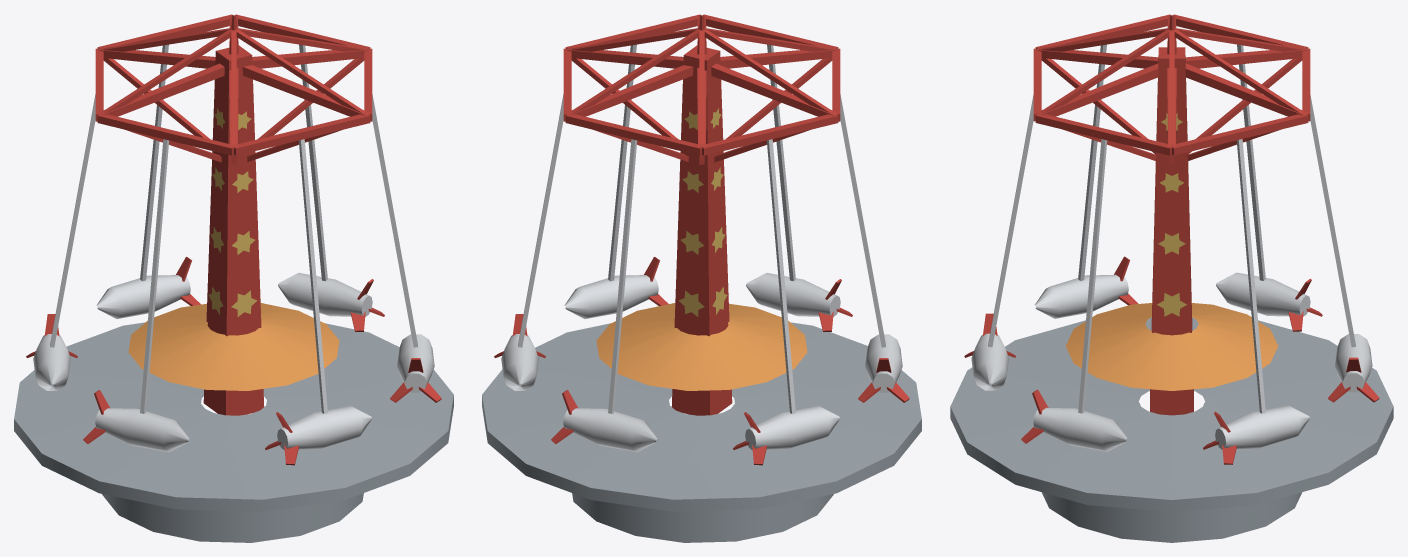
The model's file is dlr-golden-zephyr.glb.
3 views of the same model, side by side, from view 1: azimuth 30°, elevation 25°; view 2: azimuth 150°, elevation 25°; view 3: azimuth 270°, elevation 25° (orthographic).
Visible parts, largest first — view 1: Golden Zephyr, rotor; view 2: Golden Zephyr, rotor; view 3: Golden Zephyr, rotor.
Boxes of the visible parts, x1=… form: Golden Zephyr: x1=14, y1=15, x2=453, y2=542; rotor: x1=26, y1=14, x2=441, y2=465; Golden Zephyr: x1=482, y1=15, x2=921, y2=542; rotor: x1=494, y1=14, x2=909, y2=465; Golden Zephyr: x1=950, y1=15, x2=1393, y2=542; rotor: x1=964, y1=14, x2=1379, y2=464.
Bounding box in the file's own units: 20 × 23.5 × 20.
